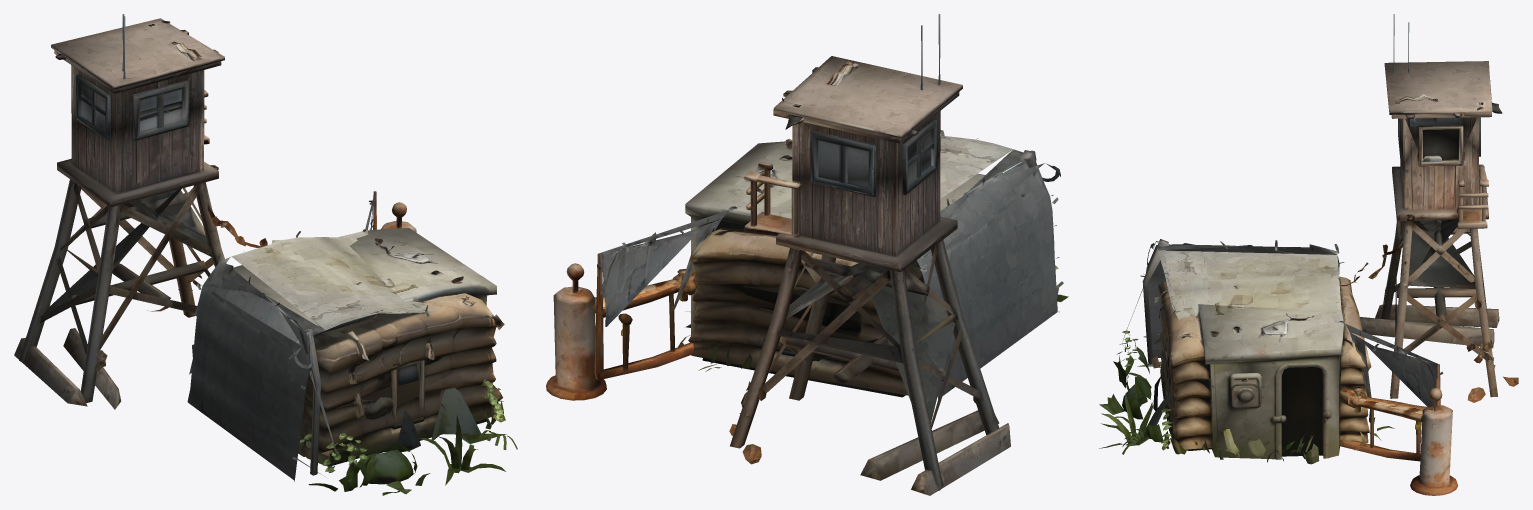
The model's file is site-checkpoint.glb.
The picture shows the model from 3 angles, left to right: view 1: azimuth 30°, elevation 25°; view 2: azimuth 150°, elevation 25°; view 3: azimuth 270°, elevation 25°; orthographic projection. The views are drawn at different scales.
Parts seen in each view (by area): view 1: site-checkpoint; view 2: site-checkpoint; view 3: site-checkpoint.
Part boxes in pixels (x1,y1,x2,y2): site-checkpoint: (14, 14, 517, 495); site-checkpoint: (546, 14, 1068, 495); site-checkpoint: (1099, 14, 1518, 495).
Bounding box in the file's own units: 0.9272 × 0.9097 × 0.9995.
Materials: 1 (1 with a texture image).
